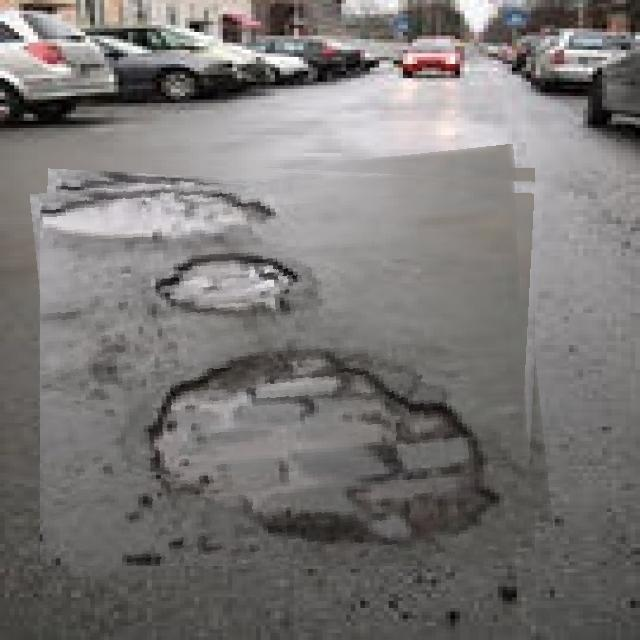Pothole: (40, 156, 544, 566)
